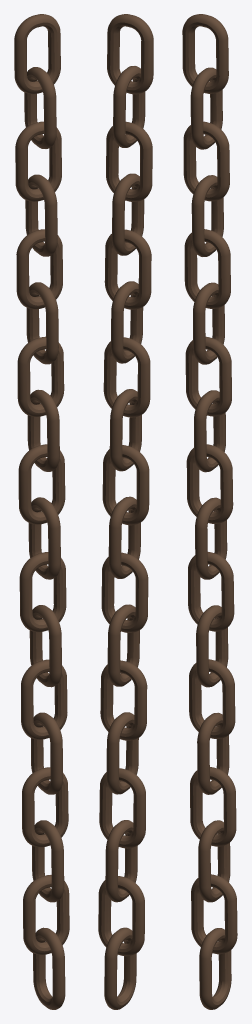
File: chain.obj
3 views of the same model, side by side, from view 1: azimuth 30°, elevation 25°; view 2: azimuth 150°, elevation 25°; view 3: azimuth 330°, elevation 25° (orthographic).
Visible parts, largest first — view 1: Chain1_chain_color; view 2: Chain1_chain_color; view 3: Chain1_chain_color.
Part boxes in pixels (x1=…): Chain1_chain_color: x1=14, y1=14, x2=69, y2=1009; Chain1_chain_color: x1=98, y1=14, x2=153, y2=1009; Chain1_chain_color: x1=182, y1=14, x2=237, y2=1009.
Bounding box in the file's own units: 0.2289 × 4.05 × 0.191.
